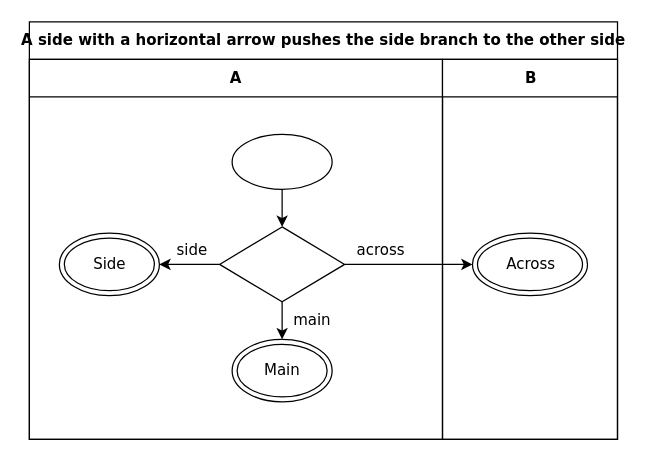
This 646x461 diagram has some shape labels left out. The box of each missing label's shape, as (x1, y1, x2, y2) in pixels:
Enter: (231, 133, 332, 189)
Fork?: (218, 226, 345, 302)
